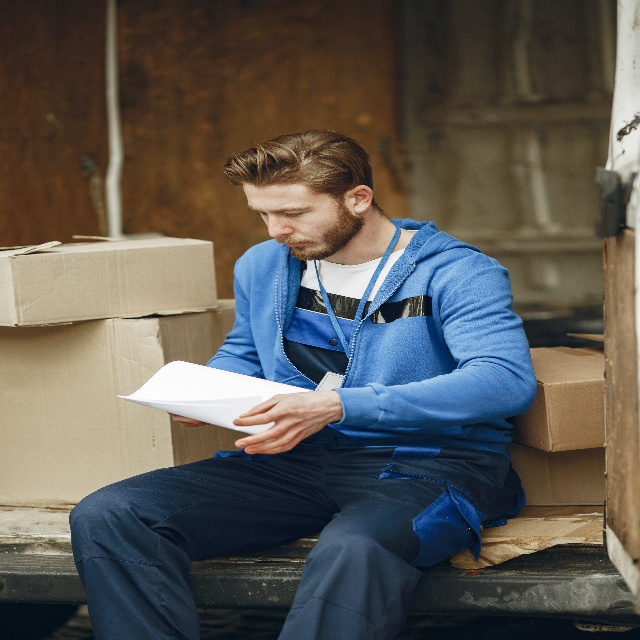Sin_guantes: (233, 389, 333, 457), (168, 413, 207, 427)
